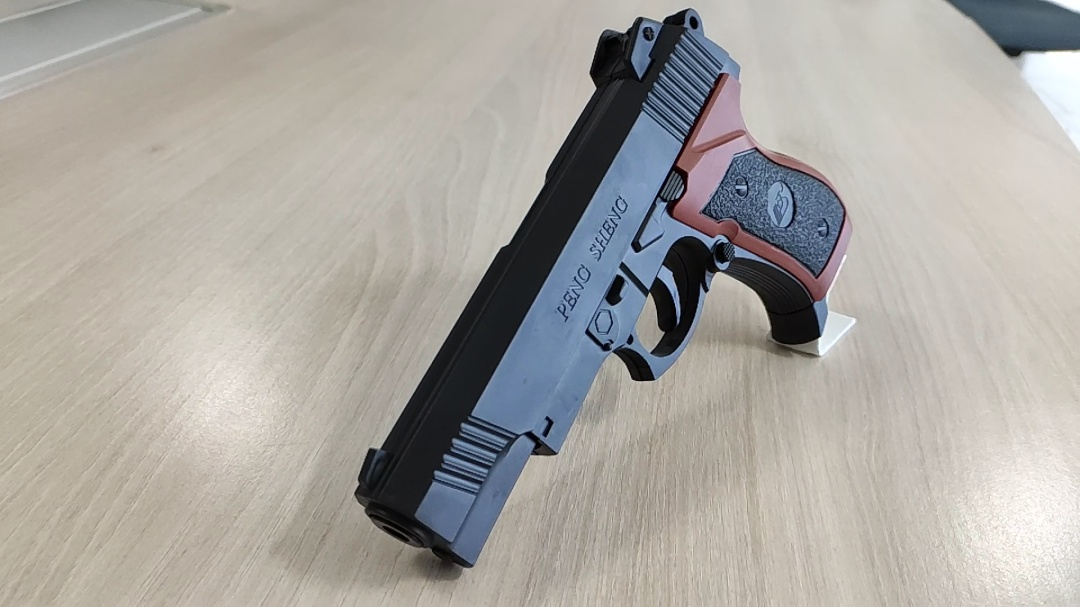gun: (467, 178, 487, 211)
